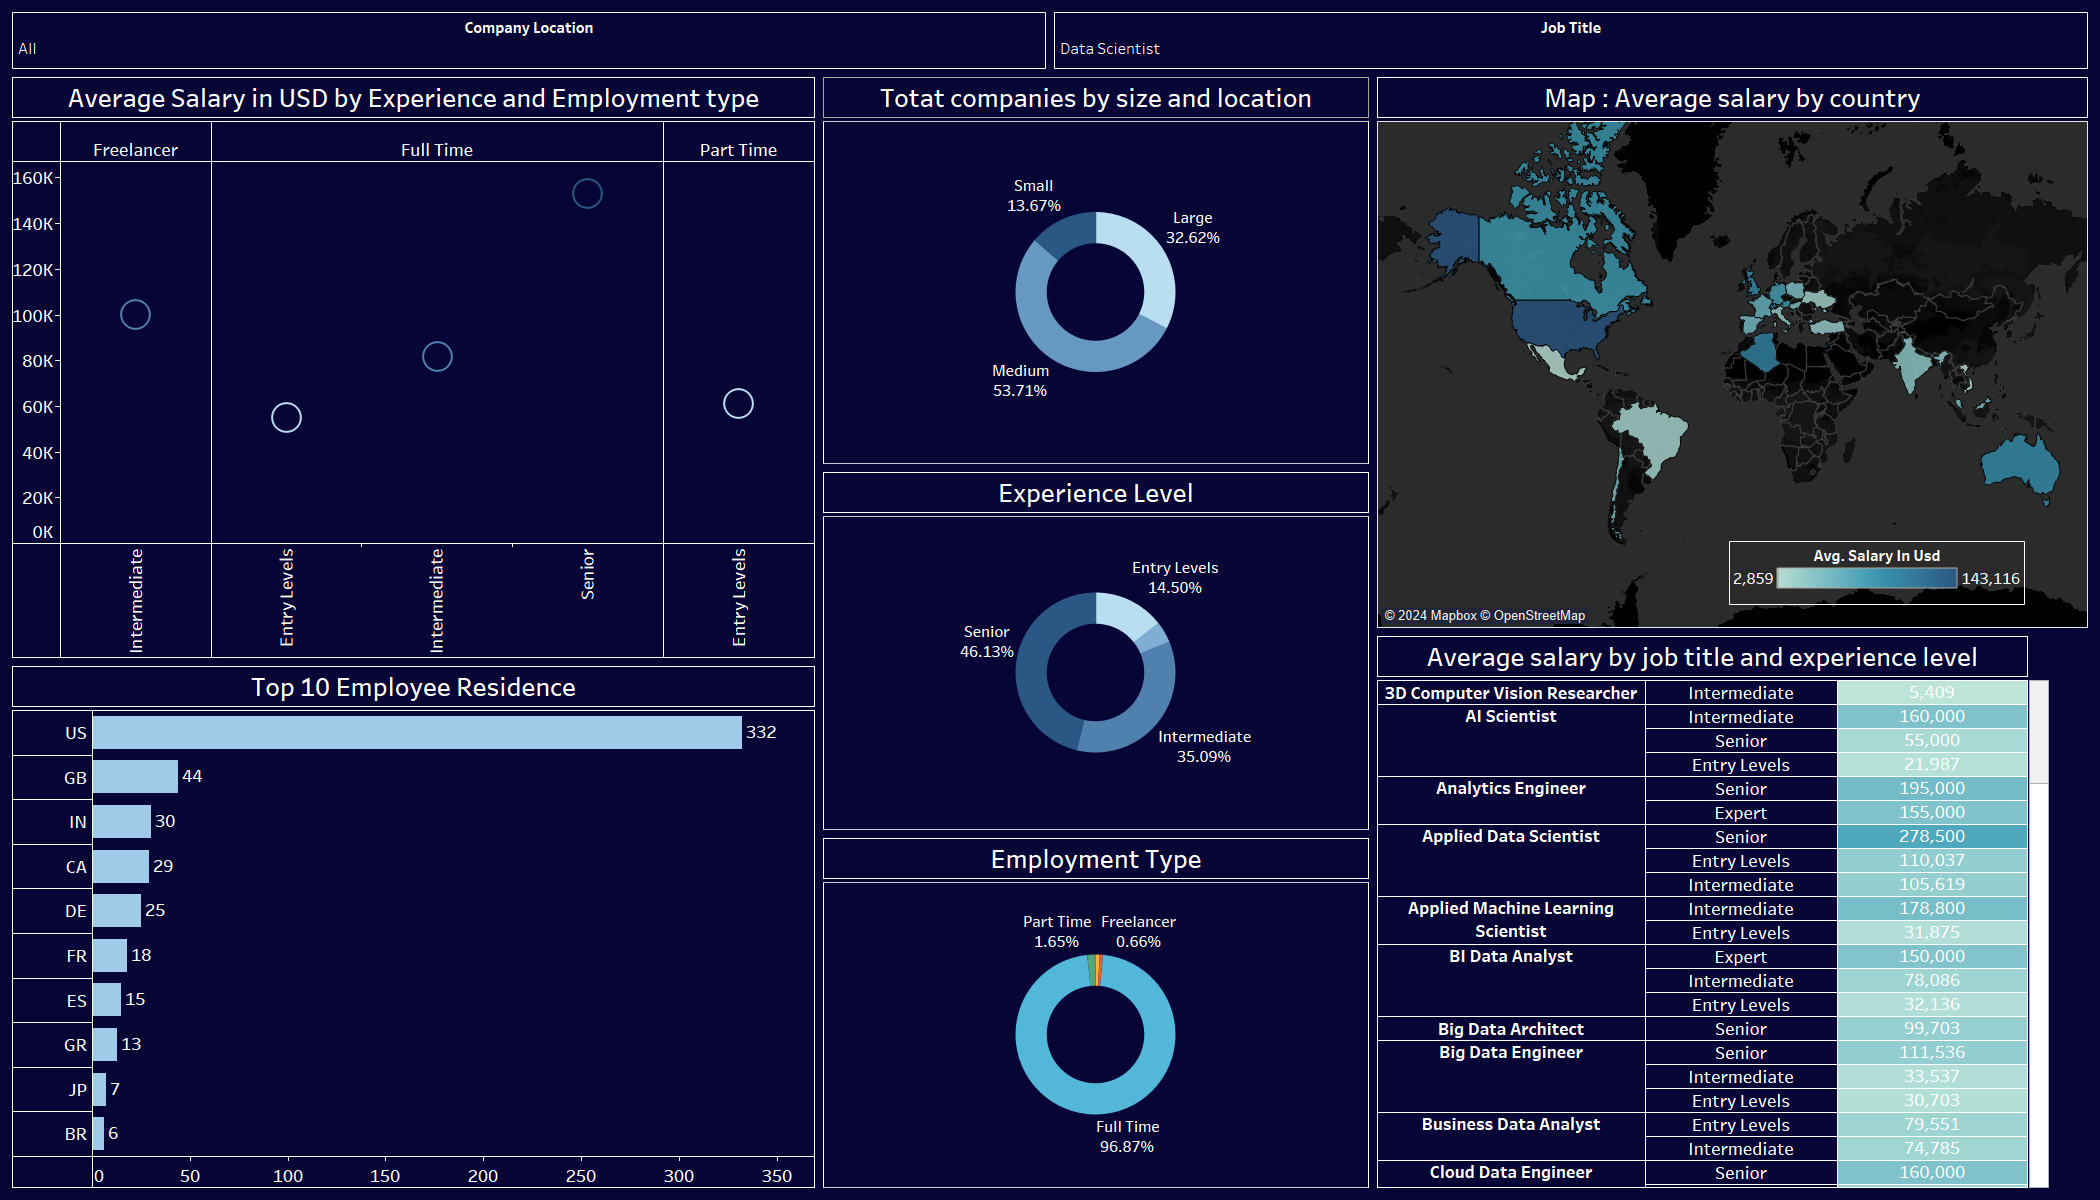

The page's visual inventory and layout, read from the dashboard file:
{"tool":"tableau","page":{"name":"Dashboard 1","canvas":[2100,1200],"ordinal":0},"visuals":[{"type":"filter","title":"Totat companies by size and location","param":"[federated.0ui7p991qf4eoh17rn1sw1rsv5d0].[none:company_location:nk]","box":[8,8,1042,74.9]},{"type":"filter","title":"Map : Average salary by country","param":"[federated.0ui7p991qf4eoh17rn1sw1rsv5d0].[none:job_title:nk]","box":[1050,8,1042,69]},{"type":"worksheet","title":"Average Salary in USD by Experience and Employment type","mark":"Shape","rows":["salary_in_usd"],"cols":["employment_type","experience_level"],"box":[8,82.9,810.9,584]},{"type":"worksheet","title":"Totat companies by size and location","mark":"Pie","rows":["Calculation_1003176879070363650","Calculation_1003176879070363650"],"box":[818.9,82.9,554,391.1]},{"type":"worksheet","title":"Map : Average salary by country","mark":"Automatic","box":[1372.9,82.9,719.1,554.5]},{"type":"worksheet","title":"Experience Level","mark":"Pie","rows":["Calculation_1003176879070363650","Calculation_1003176879070363650"],"box":[818.9,474,554,363]},{"type":"legend","title":"Map : Average salary by country","param":"[federated.0ui7p991qf4eoh17rn1sw1rsv5d0].[avg:salary_in_usd:qk]","box":[1729,541,296,64]},{"type":"worksheet","title":"Average salary by job title and experience level","mark":"Square","rows":["job_title","experience_level"],"box":[1372.9,637.4,719.1,554.6]},{"type":"worksheet","title":"Top 10 Employee Residence","mark":"Automatic","rows":["employee_residence"],"cols":["employee_residence"],"box":[8,666.9,810.9,525.1]},{"type":"worksheet","title":"Employment Type","mark":"Pie","rows":["Calculation_1003176879070363650","Calculation_1003176879070363650"],"box":[818.9,837,554,355]}]}

Visuals, with their boxes in screenshot pixels (x1, y1, x2, y2), scaled from the page's 2100x1200 canvas onto the 2100x1200 screenshot:
"Totat companies by size and location" filter: (8, 8, 1050, 83)
"Map : Average salary by country" filter: (1050, 8, 2092, 77)
"Average Salary in USD by Experience and Employment type" worksheet (Shape marks): (8, 83, 819, 667)
"Totat companies by size and location" worksheet (Pie marks): (819, 83, 1373, 474)
"Map : Average salary by country" worksheet: (1373, 83, 2092, 637)
"Experience Level" worksheet (Pie marks): (819, 474, 1373, 837)
"Map : Average salary by country" legend: (1729, 541, 2025, 605)
"Average salary by job title and experience level" worksheet (Square marks): (1373, 637, 2092, 1192)
"Top 10 Employee Residence" worksheet: (8, 667, 819, 1192)
"Employment Type" worksheet (Pie marks): (819, 837, 1373, 1192)
